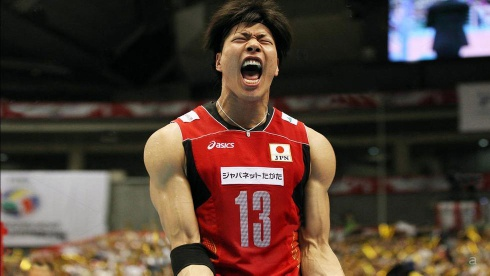male: (201, 13, 295, 119)
